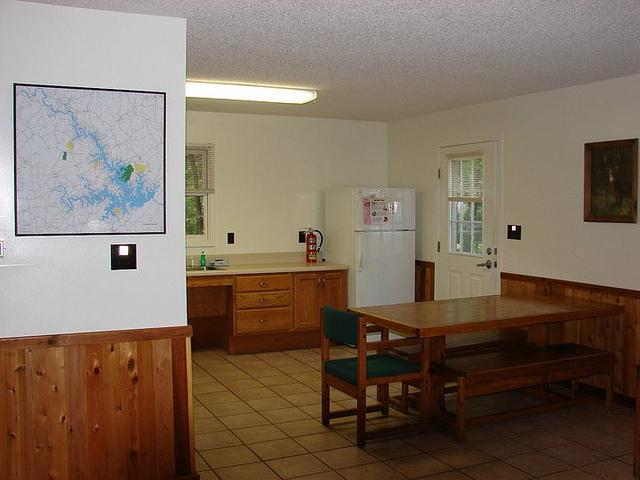Lavaplatos: (156, 254, 228, 277)
